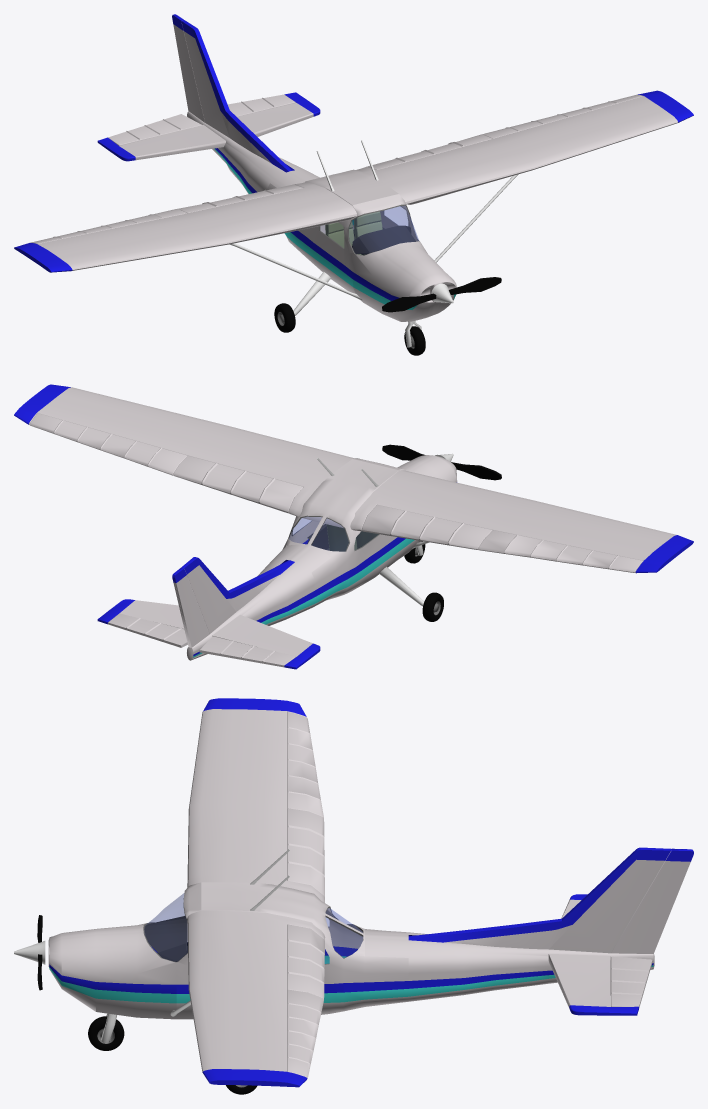
The model's file is cessna.fbx.
The picture shows the model from 3 angles, top to bottom: view 1: azimuth 30°, elevation 25°; view 2: azimuth 150°, elevation 25°; view 3: azimuth 270°, elevation 25°; orthographic projection. The views are drawn at different scales.
Visible parts, largest first — view 1: Wing, Body, Elevators, Flaps, Propeller, Rudder, Cockpit, Left_Aileron, Wing_Pole, Right_Aileron, Left_Seat; view 2: Wing, Body, Flaps, Left_Aileron, Right_Aileron, Elevators, Rudder, Propeller, Left_Seat, Right_Wheel, Rear_Wheel_Holder; view 3: Body, Wing, Flaps, Rudder, Right_Aileron, Left_Aileron, Elevators, Cockpit, Front_Wheel, Propeller.
Boxes of the visible parts, x1,y1,x2,y2 form: Wing: (14,90,693,272); Body: (97,20,456,321); Elevators: (108,94,295,145); Flaps: (174,135,492,213); Propeller: (382,277,501,312); Rudder: (172,14,204,122); Cockpit: (352,225,415,253); Left_Aileron: (479,95,642,138); Wing_Pole: (229,174,518,300); Right_Aileron: (30,209,186,243); Left_Seat: (354,211,382,255); Wing: (14,384,693,573); Body: (97,455,457,669); Flaps: (173,455,492,549); Left_Aileron: (29,413,187,475); Right_Aileron: (478,530,642,572); Elevators: (108,613,295,667); Rudder: (172,567,209,647); Propeller: (382,444,501,480); Left_Seat: (326,524,356,551); Right_Wheel: (422,592,443,621); Rear_Wheel_Holder: (379,566,424,606); Body: (48,847,671,1019); Wing: (187,698,325,1087); Flaps: (287,808,324,999); Rudder: (611,848,693,953); Right_Aileron: (287,712,323,817); Left_Aileron: (287,989,323,1078); Elevators: (611,956,652,1008); Cockpit: (145,916,187,961); Front_Wheel: (88,1016,124,1050); Propeller: (14,915,45,990).
Bounding box in the file's own units: 1082 × 266 × 814.
